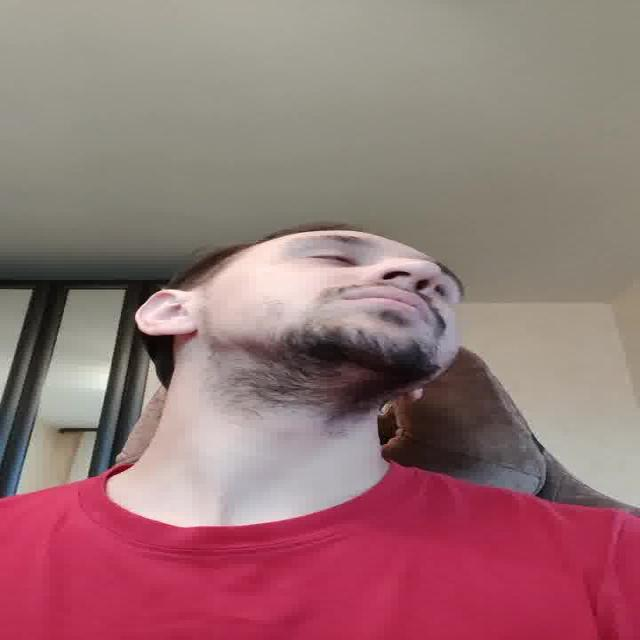earlobe: (145, 323, 198, 336), (401, 386, 428, 402)
eye: (306, 252, 357, 266), (434, 282, 454, 302)
nose: (368, 274, 431, 295)
wholeear: (134, 288, 196, 337)
